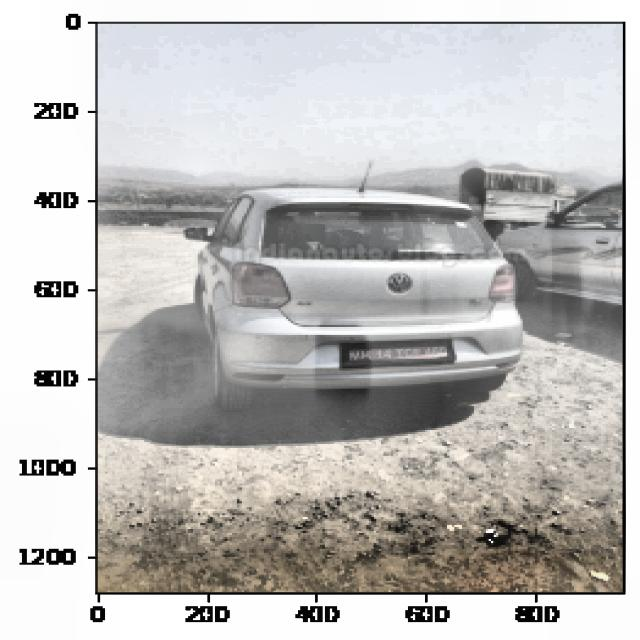license_plate: (340, 336, 453, 367)
